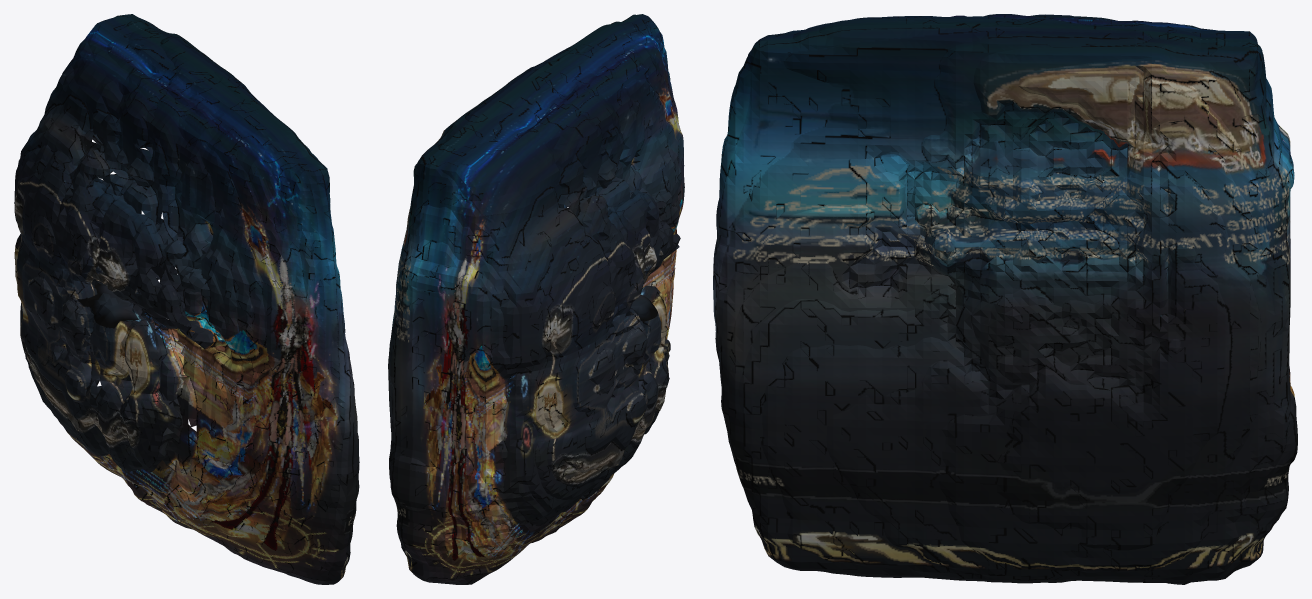
The model's file is uv_03_characters__characters_0003_82-2301311R332234.glb.
3 renders of one model, left to right at view 1: azimuth 30°, elevation 25°; view 2: azimuth 150°, elevation 25°; view 3: azimuth 270°, elevation 25°, orthographic. The views are drawn at different scales.
Parts seen in each view (by area): view 1: geometry_0; view 2: geometry_0; view 3: geometry_0.
Boxes of the visible parts, x1,y1,x2,y2 form: geometry_0: (14,14,359,584); geometry_0: (388,14,684,584); geometry_0: (713,14,1297,584).
Bounding box in the file's own units: 0.4356 × 1.01 × 0.9813.
1 material, 1 textured.
